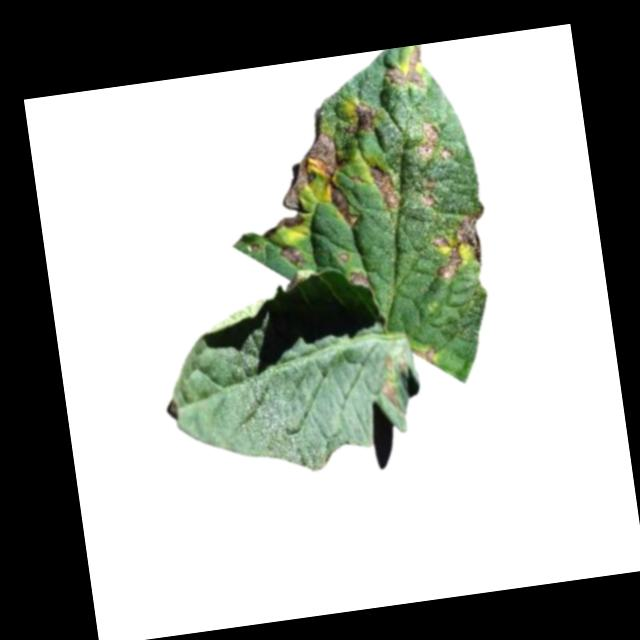Early_blight: (272, 125, 363, 235), (427, 205, 495, 284), (381, 44, 429, 94), (376, 353, 414, 413), (411, 119, 451, 165), (367, 160, 399, 212), (264, 212, 308, 236), (353, 100, 378, 135), (410, 341, 438, 371), (278, 243, 306, 271), (420, 174, 439, 211), (346, 270, 371, 290), (336, 250, 354, 264)
